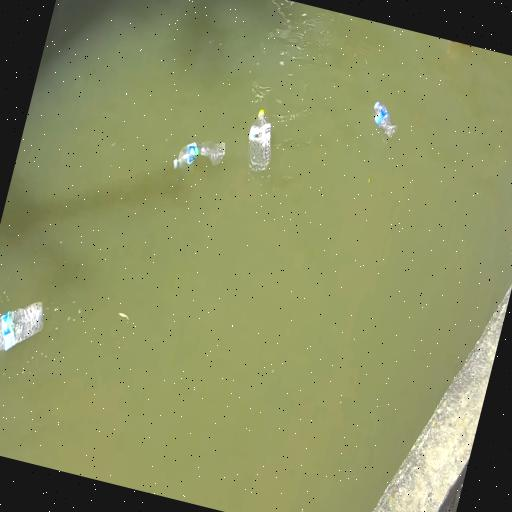plastic: (0, 302, 43, 352), (248, 109, 271, 171), (174, 142, 225, 169), (374, 102, 396, 138)
